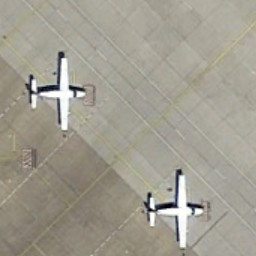Airplane: (23, 31, 116, 142), (140, 163, 220, 253)
